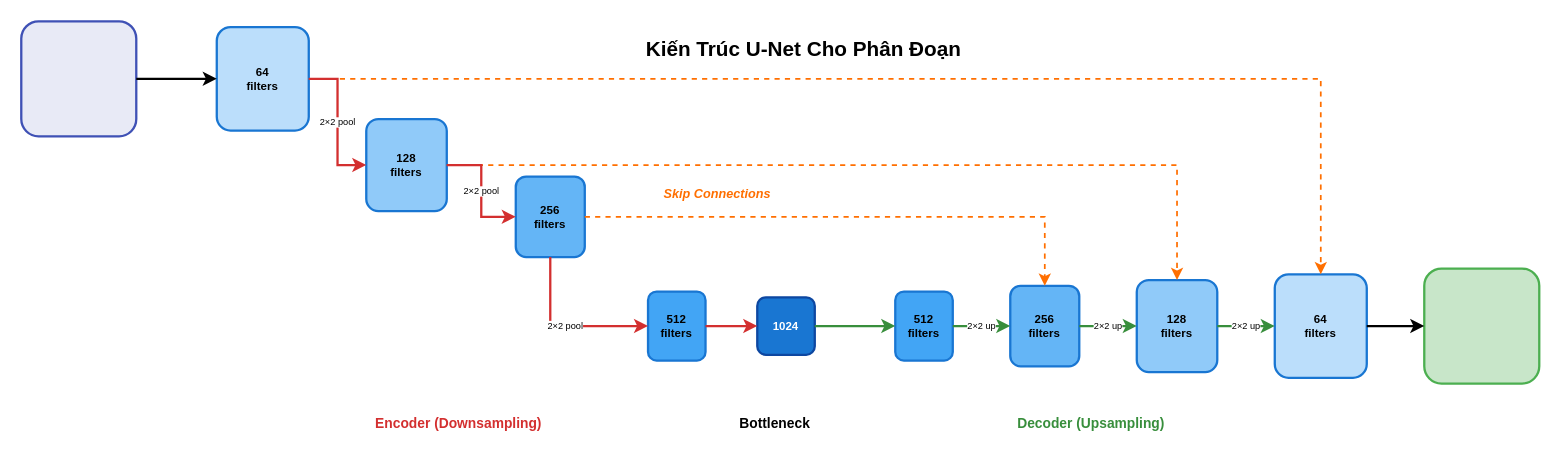
Some shapes in this 1559 by 460 pixel diagram are drawn without their labels. The shapes that lost their labels are listed below. From the top down, each one's box as (x1, y1, x2, y2) in pixels, then its label:
(20, 20, 137, 137): Input 256×256×1
(1423, 267, 1540, 384): Output 256×256×1 Mask
